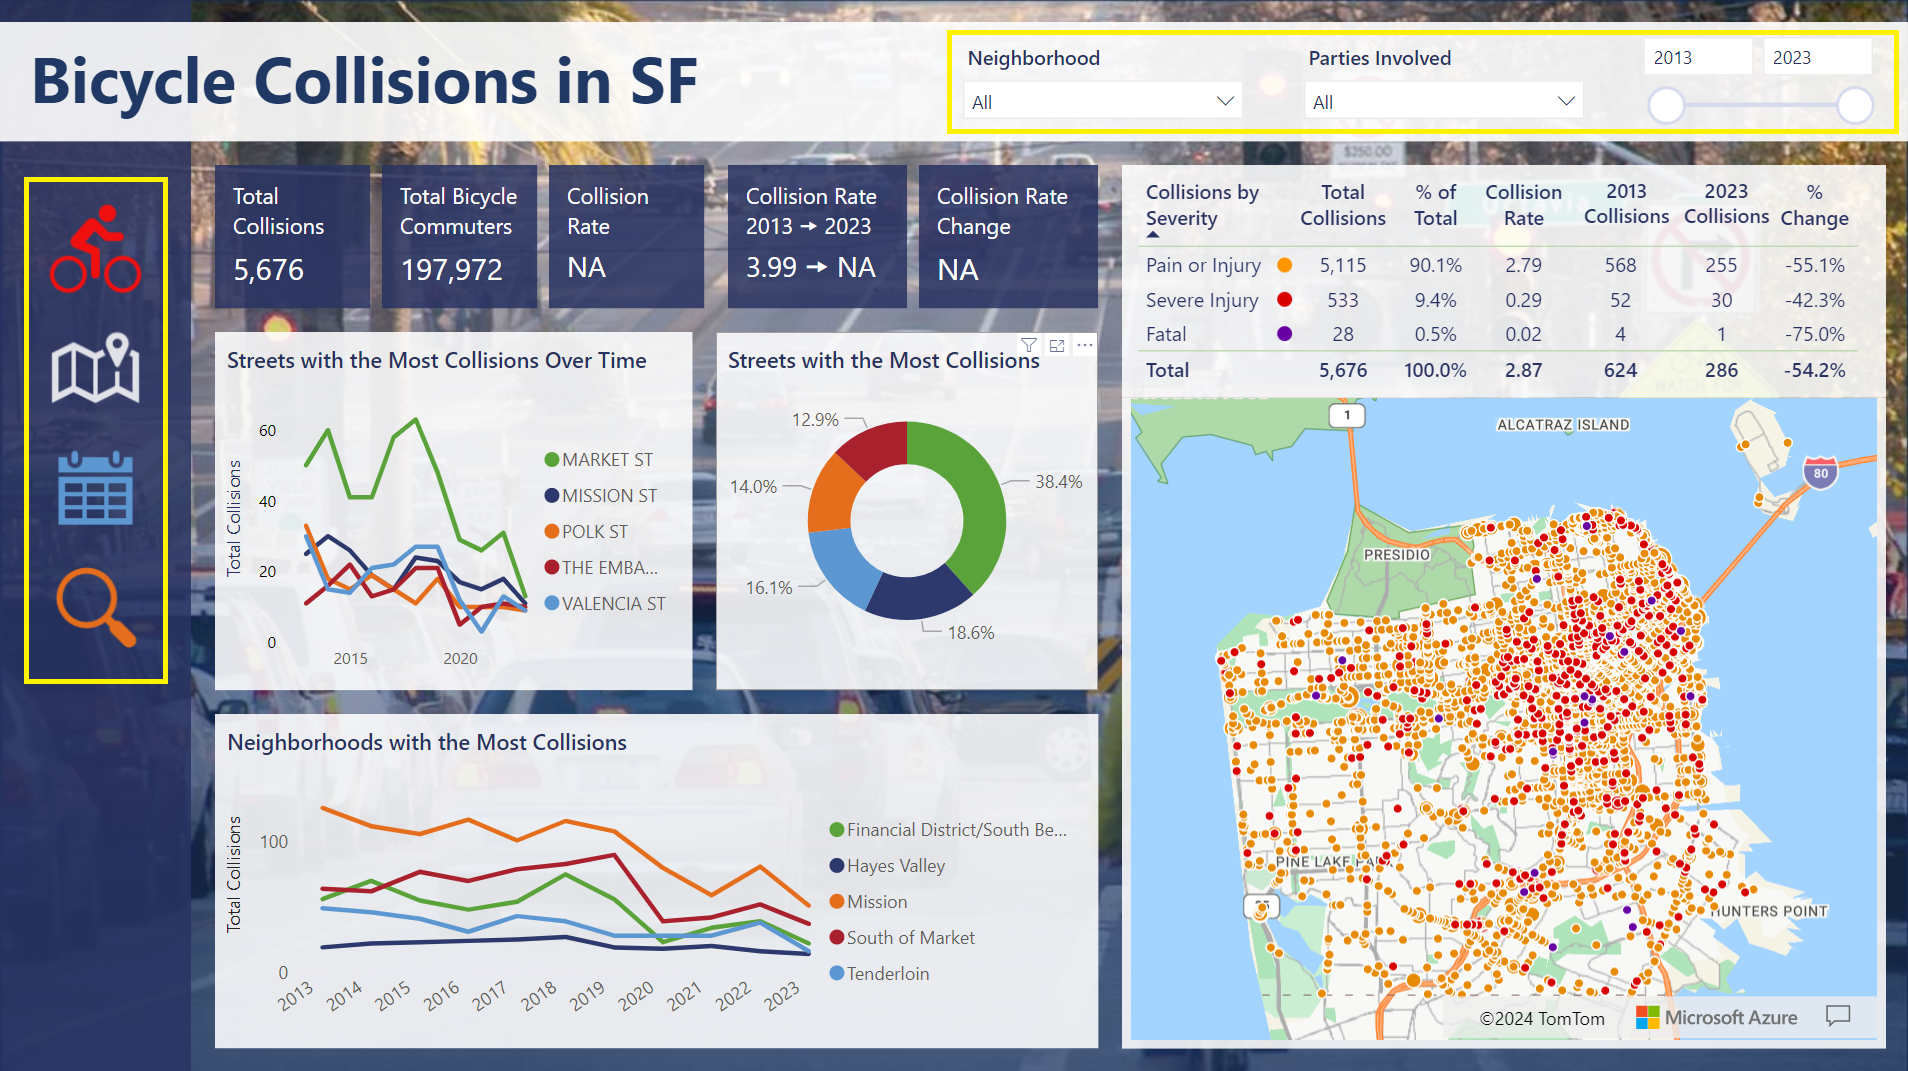

Layout of this report page (visuals, bound fields, positions):
{"tool":"powerbi","page":{"name":"Home","canvas":[1280,720],"ordinal":0},"visuals":[{"type":"shape","box":[0,0,104,720],"z":0},{"type":"tableEx","fields":{"Values":["dimCollisionSeverity.CollisionSeverity","dimCollisionSeverity.Icon","_Measures.Total Collisions","_Measures.Collisions % by Severity","_Measures.Collision Rate","_Measures.Collisions Start Year","_Measures.Collisions End Year","_Measures.Collisions % Change over Years"]},"box":[752,112,512,156],"z":0,"group":"g1"},{"type":"textbox","box":[0,16,1280,80],"z":1000},{"type":"textbox","box":[1054,119.8,72,34.1],"z":2000,"group":"g1"},{"type":"azureMap","fields":{"Y":["factTrafficCrashes.Latitude"],"X":["factTrafficCrashes.Longitude"],"Series":["dimCollisionSeverity.CollisionSeverity"],"Size":["_Measures.Total Collisions"]},"box":[752,268,512,436],"z":2000},{"type":"group","id":"g1","title":"Group 1","box":[752,112,512,156],"z":3000},{"type":"slicer","fields":{"Values":["dimNeighborhoods.Neighborhood"]},"box":[635,24,208,64],"z":4000},{"type":"textbox","box":[1121,119.8,72,34.1],"z":4000,"group":"g1"},{"type":"slicer","fields":{"Values":["dimParties.Parties"]},"box":[864,24,208,64],"z":5000},{"type":"slicer","fields":{"Values":["dimDate.Year"]},"box":[1088,16,176,80],"z":6000},{"type":"multiRowCard","title":"Total Collisions","fields":{"Values":["_Measures.Total Collisions"]},"box":[120,112,104,96],"z":7000},{"type":"multiRowCard","title":"Total Bicycle Commuters","fields":{"Values":["_Measures.Total Bike Commuters with NA"]},"box":[240,112,112,96],"z":8000},{"type":"multiRowCard","title":"Collision Rate","fields":{"Values":["_Measures.Collision Rate with NA"]},"box":[368,112,104,96],"z":9000},{"type":"multiRowCard","fields":{"Values":["_Measures.Collision Rate Range"]},"box":[488,112,120,96],"z":10000},{"type":"multiRowCard","title":"Collision Rate Change","fields":{"Values":["_Measures.Collision Rate % Change over Years"]},"box":[624,112,112,96],"z":11000},{"type":"actionButton","box":[0,128,104,80],"z":12000},{"type":"actionButton","box":[0,208,104,80],"z":13000},{"type":"actionButton","box":[0,288,104,80],"z":14000},{"type":"actionButton","box":[0,368,104,80],"z":15000},{"type":"lineStackedColumnComboChart","title":"Collisions By Severity with Total Bike Commuters","fields":{"Category":["dimDate.Year"],"Y":["_Measures.Total Collisions"],"Series":["dimCollisionSeverity.CollisionSeverity"],"Y2":["_Measures.Total Bike Commuters"]},"box":[120,496,616,208],"z":16000},{"type":"lineChart","title":"Collision Rates Over Time","fields":{"Category":["dimDate.Year"],"Y":["_Measures.Collision Rate"],"Y2":["_Measures.Collision Rate by Population"]},"box":[120,224,408,256],"z":17000},{"type":"textbox","box":[544,224,192,256],"z":18000},{"type":"actionButton","box":[0,448,104,80],"z":19000}]}

Visuals, with their boxes in screenshot pixels (x1, y1, x2, y2), scaled from the page's 1280x720 canvas onto the 1908x1071 screenshot:
shape: x1=0, y1=0, x2=155, y2=1070
tableEx - dimCollisionSeverity.CollisionSeverity x dimCollisionSeverity.Icon: x1=1121, y1=167, x2=1884, y2=399
textbox: x1=0, y1=24, x2=1907, y2=143
textbox: x1=1571, y1=178, x2=1678, y2=229
azureMap - factTrafficCrashes.Latitude x factTrafficCrashes.Longitude: x1=1121, y1=399, x2=1884, y2=1047
"Group 1" group: x1=1121, y1=167, x2=1884, y2=399
slicer - dimNeighborhoods.Neighborhood: x1=947, y1=36, x2=1257, y2=131
textbox: x1=1671, y1=178, x2=1778, y2=229
slicer - dimParties.Parties: x1=1288, y1=36, x2=1598, y2=131
slicer - dimDate.Year: x1=1622, y1=24, x2=1884, y2=143
"Total Collisions" multiRowCard: x1=179, y1=167, x2=334, y2=309
"Total Bicycle Commuters" multiRowCard: x1=358, y1=167, x2=525, y2=309
"Collision Rate" multiRowCard: x1=549, y1=167, x2=704, y2=309
multiRowCard - _Measures.Collision Rate Range: x1=727, y1=167, x2=906, y2=309
"Collision Rate Change" multiRowCard: x1=930, y1=167, x2=1097, y2=309
actionButton: x1=0, y1=190, x2=155, y2=309
actionButton: x1=0, y1=309, x2=155, y2=428
actionButton: x1=0, y1=428, x2=155, y2=547
actionButton: x1=0, y1=547, x2=155, y2=666
"Collisions By Severity with Total Bike Commuters" lineStackedColumnComboChart: x1=179, y1=738, x2=1097, y2=1047
"Collision Rates Over Time" lineChart: x1=179, y1=333, x2=787, y2=714
textbox: x1=811, y1=333, x2=1097, y2=714
actionButton: x1=0, y1=666, x2=155, y2=785
